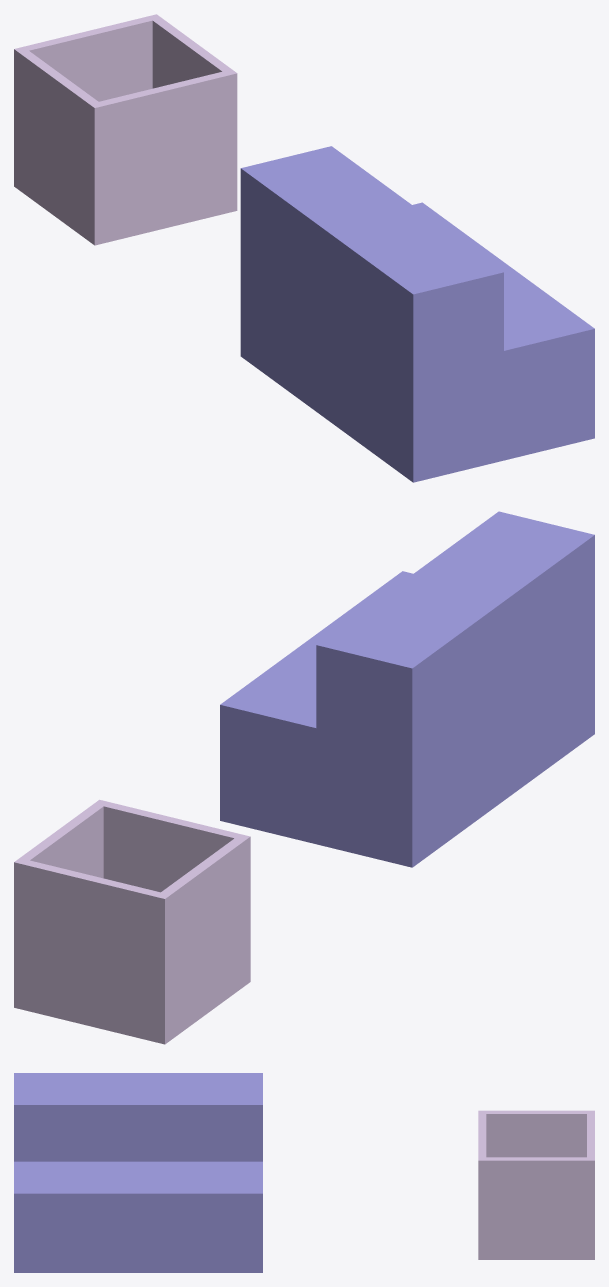
Rendered from ShuttleBinBox and SampleCutter.glb.
3 renders of one model, top to bottom at view 1: azimuth 30°, elevation 25°; view 2: azimuth 150°, elevation 25°; view 3: azimuth 270°, elevation 25°, orthographic. The views are drawn at different scales.
Parts seen in each view (by area): view 1: Shuttle Bines BOX, Sample Cutter Unit; view 2: Shuttle Bines BOX, Sample Cutter Unit; view 3: Shuttle Bines BOX, Sample Cutter Unit.
Boxes of the visible parts, x1,y1,x2,y2 form: Shuttle Bines BOX: (240,146,594,482); Sample Cutter Unit: (14,14,237,245); Shuttle Bines BOX: (220,511,594,867); Sample Cutter Unit: (14,799,250,1044); Shuttle Bines BOX: (14,1073,262,1272); Sample Cutter Unit: (478,1110,594,1259).
Size of the model in its own units: 1.46 by 1.44 by 5.6.
